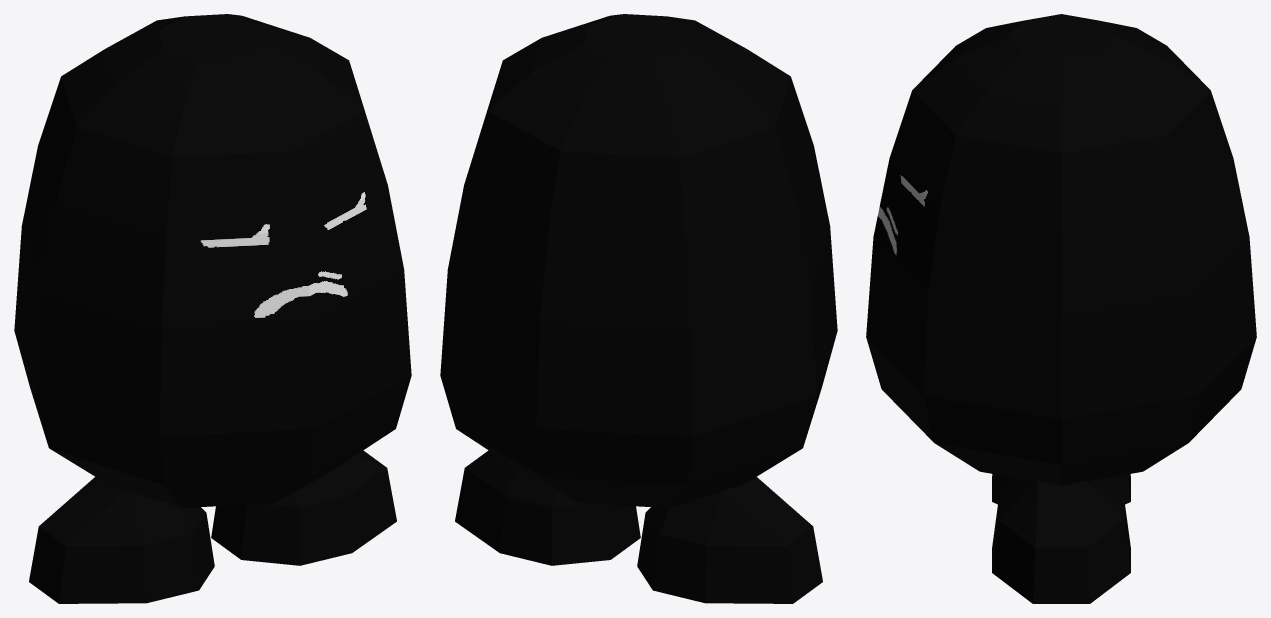
File: Enemy_Stop.fbx
3 views of the same model, side by side, from view 1: azimuth 30°, elevation 25°; view 2: azimuth 150°, elevation 25°; view 3: azimuth 270°, elevation 25° (orthographic). The views are drawn at different scales.
Visible parts, largest first — view 1: Body, LegR, LegL; view 2: Body, LegR, LegL; view 3: Body, LegL, LegR.
Part boxes in pixels (bbox=[...]): Body: bbox=[14, 14, 411, 508]; LegR: bbox=[29, 477, 214, 603]; LegL: bbox=[211, 450, 396, 565]; Body: bbox=[440, 14, 837, 508]; LegR: bbox=[637, 477, 822, 603]; LegL: bbox=[455, 450, 640, 565]; Body: bbox=[866, 14, 1256, 485]; LegL: bbox=[992, 478, 1130, 603]; LegR: bbox=[992, 474, 1130, 504].
Bounding box in the file's own units: 1.01 × 1.4 × 1.01.
1 material, 1 textured.
